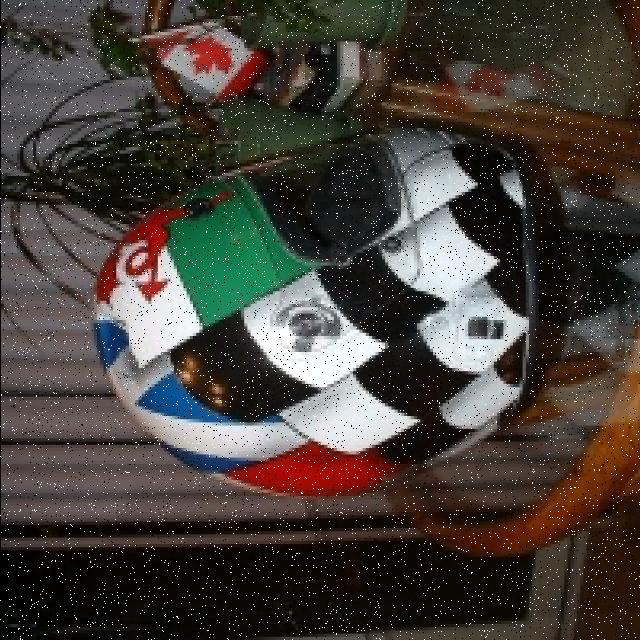Helmet: (92, 130, 527, 496)
